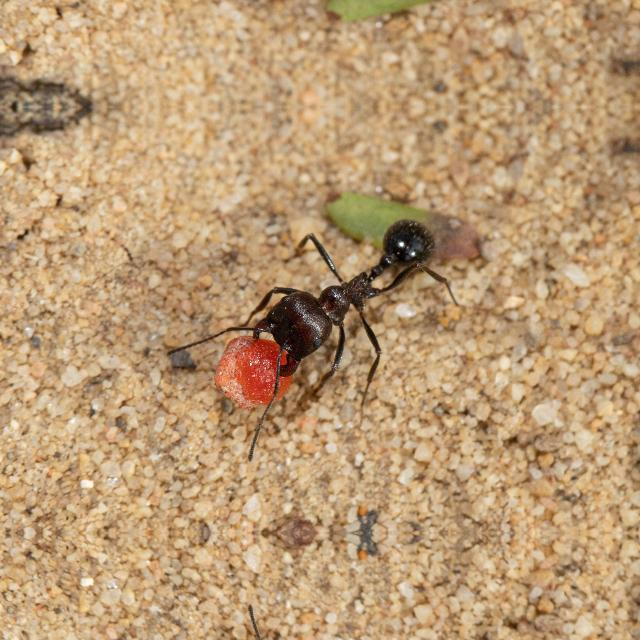Messor: (261, 208, 431, 374)
